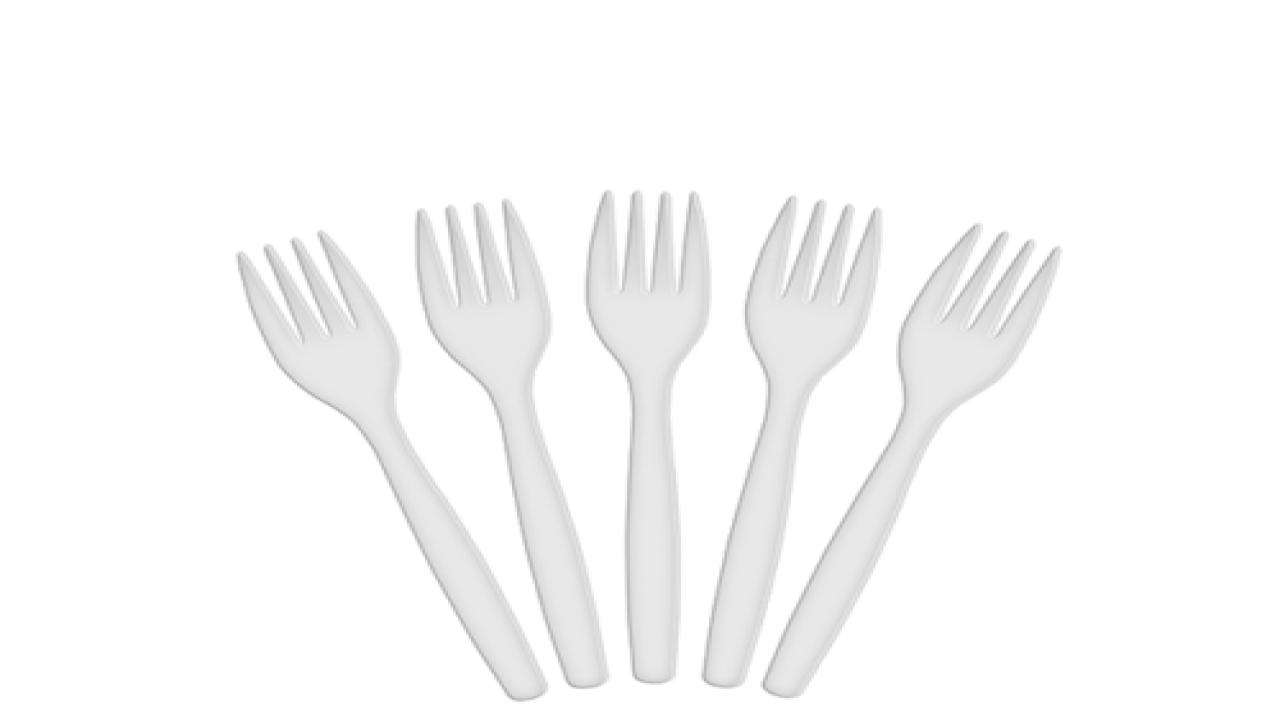fork: (233, 228, 548, 700), (760, 223, 1060, 698), (412, 197, 606, 689), (701, 193, 880, 687), (584, 187, 710, 684)
